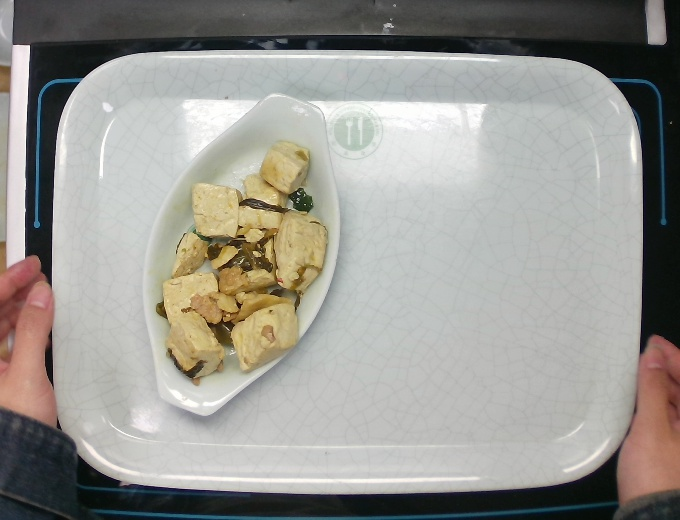JYsf-Yu_Pan: (136, 93, 346, 416)
